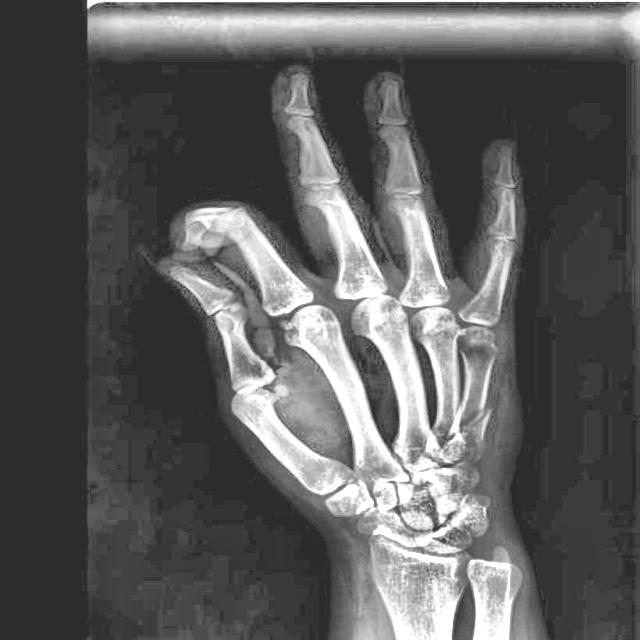fracture: (181, 202, 240, 235), (459, 406, 492, 436), (236, 382, 276, 405), (218, 300, 246, 326), (280, 322, 306, 349)
